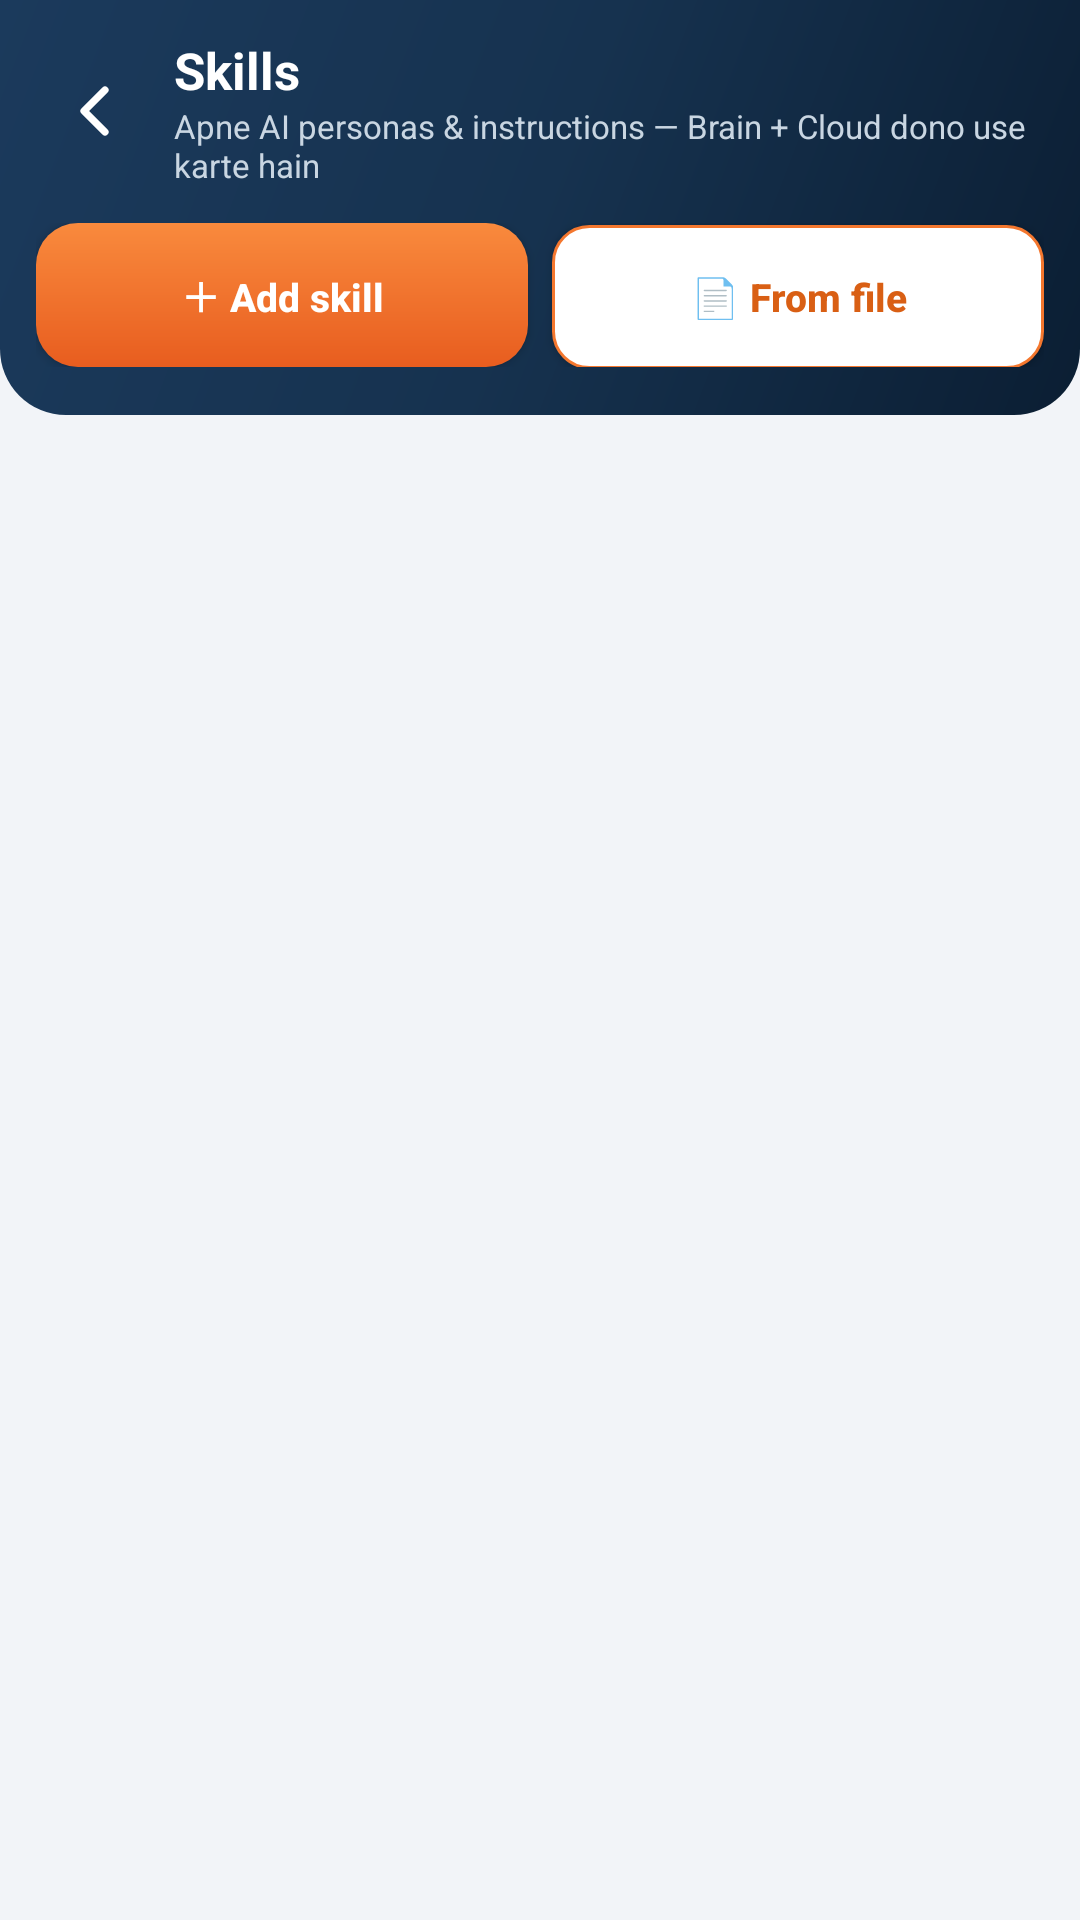

Locate icon controls on the screen. Image size 1080 × 1920, boxes as (x1, y1, x2, y2).
Back: (80, 86, 109, 136)
